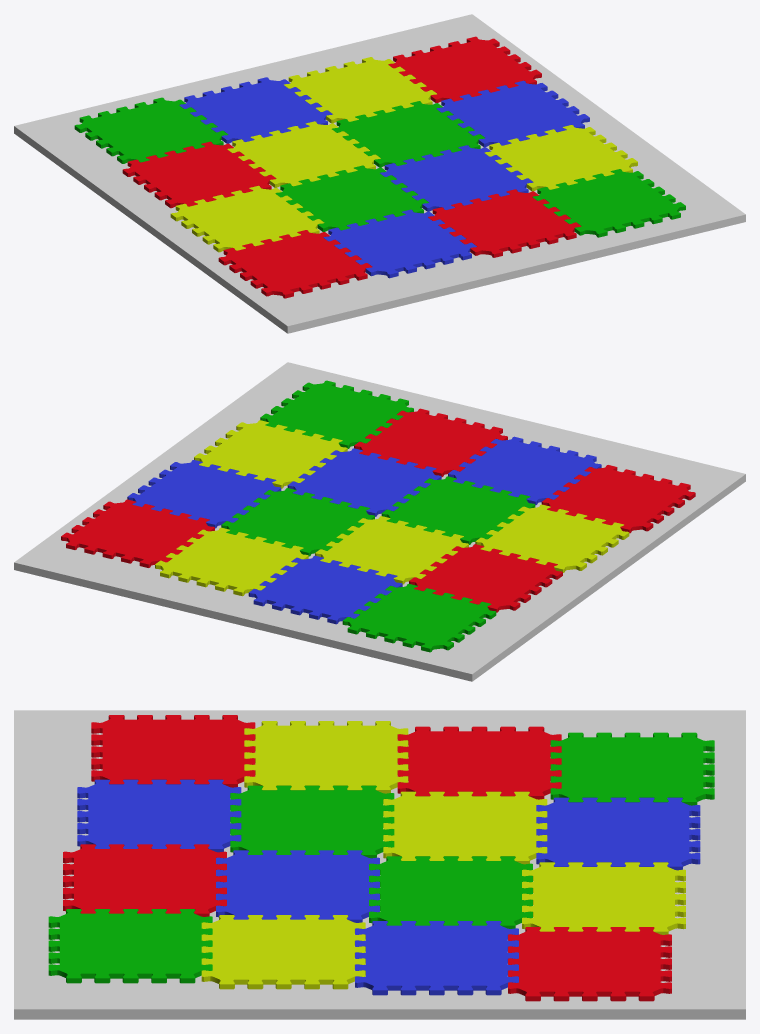
The picture shows the model from 3 angles, top to bottom: view 1: azimuth 30°, elevation 25°; view 2: azimuth 150°, elevation 25°; view 3: azimuth 270°, elevation 25°; orthographic projection. The views are drawn at different scales.
Visible parts, largest first — view 1: Cube.017, Cube.011, Cube.016, Cube.015, Cube.012, Cube, Cube.009, Cube.003, Cube.006, Cube.008, Cube.014, Cube.005 (+5 smaller); view 2: Cube.017, Cube, Cube.006, Cube.002, Cube.005, Cube.011, Cube.009, Cube.003, Cube.016, Cube.014, Cube.008, Cube.015 (+5 smaller); view 3: Cube.017, Cube.006, Cube.016, Cube.014, Cube.008, Cube, Cube.002, Cube.011, Cube.012, Cube.005, Cube.003, Cube.015 (+5 smaller).
Boxes of the visible parts, box(x1,y1,x2,y2) form: Cube.017: box(14, 14, 745, 333); Cube.011: box(218, 230, 372, 298); Cube.016: box(532, 169, 685, 237); Cube.015: box(428, 189, 581, 257); Cube.012: box(323, 209, 476, 278); Cube: box(74, 97, 228, 163); Cube.009: box(170, 185, 324, 252); Cube.003: box(122, 141, 276, 208); Cube.006: box(388, 36, 541, 102); Cube.008: box(436, 80, 589, 147); Cube.014: box(484, 125, 637, 191); Cube.005: box(284, 57, 436, 123); Cube.017: box(14, 362, 745, 681); Cube: box(342, 584, 496, 652); Cube.006: box(61, 499, 214, 567); Cube.002: box(248, 555, 402, 624); Cube.005: box(155, 527, 308, 596); Cube.011: box(541, 465, 695, 533); Cube.009: box(475, 504, 629, 572); Cube.003: box(409, 544, 562, 612); Cube.016: box(260, 380, 413, 448); Cube.014: box(194, 420, 347, 488); Cube.008: box(127, 460, 281, 528); Cube.015: box(354, 408, 507, 476); Cube.017: box(14, 710, 745, 1019); Cube.006: box(508, 927, 671, 1001); Cube.016: box(48, 909, 212, 983); Cube.014: box(201, 915, 365, 989); Cube.008: box(355, 921, 518, 995); Cube: box(550, 732, 714, 805); Cube.002: box(536, 797, 700, 870); Cube.011: box(91, 715, 255, 787); Cube.012: box(77, 779, 241, 852); Cube.005: box(522, 862, 685, 934); Cube.003: box(397, 726, 561, 799); Cube.015: box(63, 844, 226, 916).
Size of the model in its own units: 638 by 15.06 by 660.
